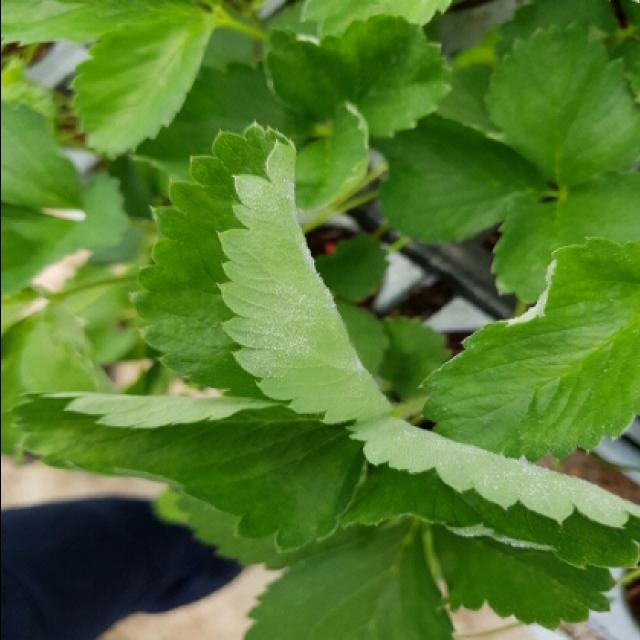Powdery Mildew Leaf: (128, 116, 397, 424), (418, 235, 640, 462), (336, 412, 640, 574)
